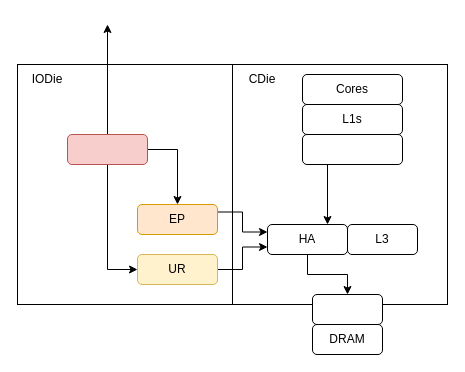
Image size: 465x372. Some labels were removed from this diagram. Each missing label, with the centre of its shape:
"L2s" belongs at (352,149).
"MC" belongs at (347,309).
"UBCC" belongs at (107,149).
